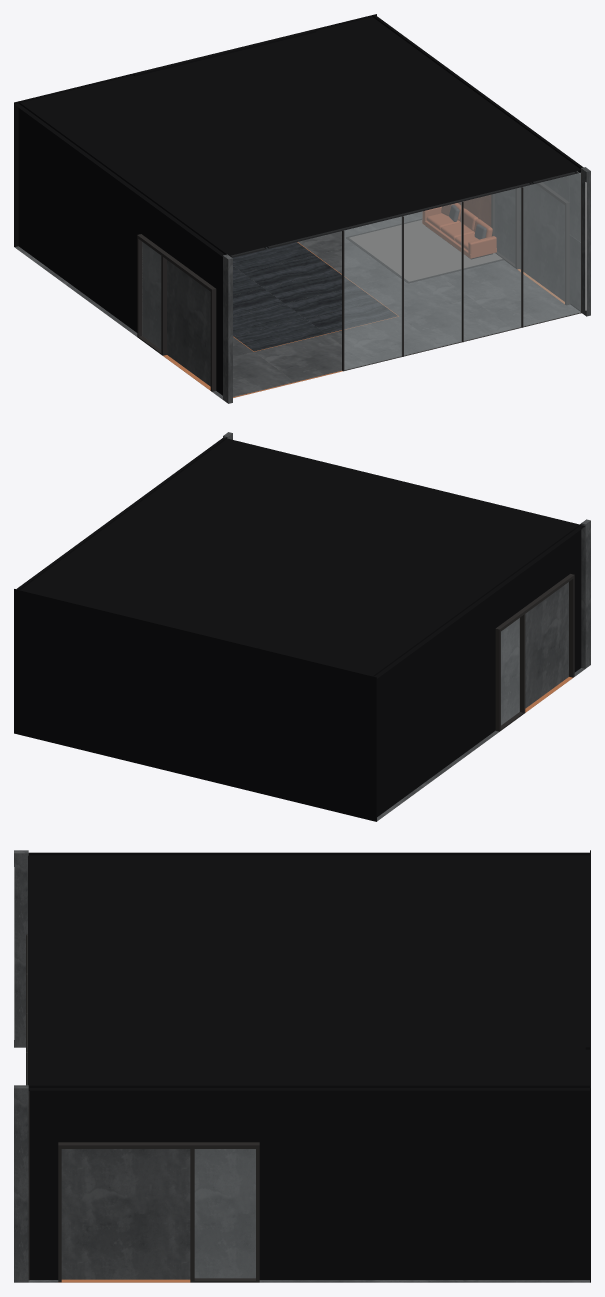
Rendered from room_dynamic.glb.
3 views of the same model, one above another, from view 1: azimuth 30°, elevation 25°; view 2: azimuth 150°, elevation 25°; view 3: azimuth 270°, elevation 25° (orthographic). The views are drawn at different scales.
Parts seen in each view (by area): view 1: MTG_Reveals, MTG_Glass_Vitrine, MTG_Floor, MTG_PortalFill_L, MTG_PortalFill_R, MTG_Rug, MTG_Walls, MTG_Sofa, MTG_Glass_PortalL, MTG_Pier_-1, MTG_Pier_1, MTG_Ceiling (+4 smaller); view 2: MTG_Reveals, MTG_PortalFill_L, MTG_Glass_PortalL, MTG_Pier_-1, MTG_PortalL_Mull, MTG_Floor, MTG_PortalL_JambA, MTG_PortalL_Head, MTG_PortalL_JambB; view 3: MTG_Reveals, MTG_PortalFill_R, MTG_Glass_PortalR, MTG_Pier_1, MTG_Pier_-1, MTG_PortalR_Head, MTG_Floor, MTG_PortalR_Mull.
Boxes of the visible parts, bbox=[...] form: MTG_Reveals: bbox=[14, 14, 583, 395]; MTG_Glass_Vitrine: bbox=[344, 173, 580, 369]; MTG_Floor: bbox=[14, 211, 579, 399]; MTG_PortalFill_L: bbox=[142, 242, 210, 386]; MTG_PortalFill_R: bbox=[495, 182, 564, 301]; MTG_Rug: bbox=[349, 220, 502, 281]; MTG_Walls: bbox=[458, 171, 580, 310]; MTG_Sofa: bbox=[422, 203, 496, 259]; MTG_Glass_PortalL: bbox=[142, 242, 160, 348]; MTG_Pier_-1: bbox=[223, 254, 232, 403]; MTG_Pier_1: bbox=[581, 167, 590, 316]; MTG_Ceiling: bbox=[230, 171, 576, 257]; MTG_Reveals: bbox=[14, 437, 584, 821]; MTG_PortalFill_L: bbox=[501, 582, 568, 725]; MTG_Glass_PortalL: bbox=[501, 618, 519, 724]; MTG_Pier_-1: bbox=[581, 519, 590, 668]; MTG_PortalL_Mull: bbox=[519, 614, 525, 713]; MTG_Floor: bbox=[377, 668, 584, 821]; MTG_PortalL_JambA: bbox=[495, 631, 500, 731]; MTG_PortalL_Head: bbox=[495, 574, 574, 632]; MTG_PortalL_JambB: bbox=[569, 578, 574, 677]; MTG_Reveals: bbox=[28, 850, 590, 1282]; MTG_PortalFill_R: bbox=[61, 1149, 255, 1279]; MTG_Glass_PortalR: bbox=[195, 1149, 255, 1277]; MTG_Pier_1: bbox=[14, 1085, 28, 1282]; MTG_Pier_-1: bbox=[14, 850, 28, 1047]; MTG_PortalR_Head: bbox=[58, 1142, 259, 1148]; MTG_Floor: bbox=[28, 1280, 589, 1282]; MTG_PortalR_Mull: bbox=[190, 1149, 194, 1282].
Bounding box in the file's own units: 13 × 4.95 × 13.32.
Materials: 25 (6 with a texture image).
